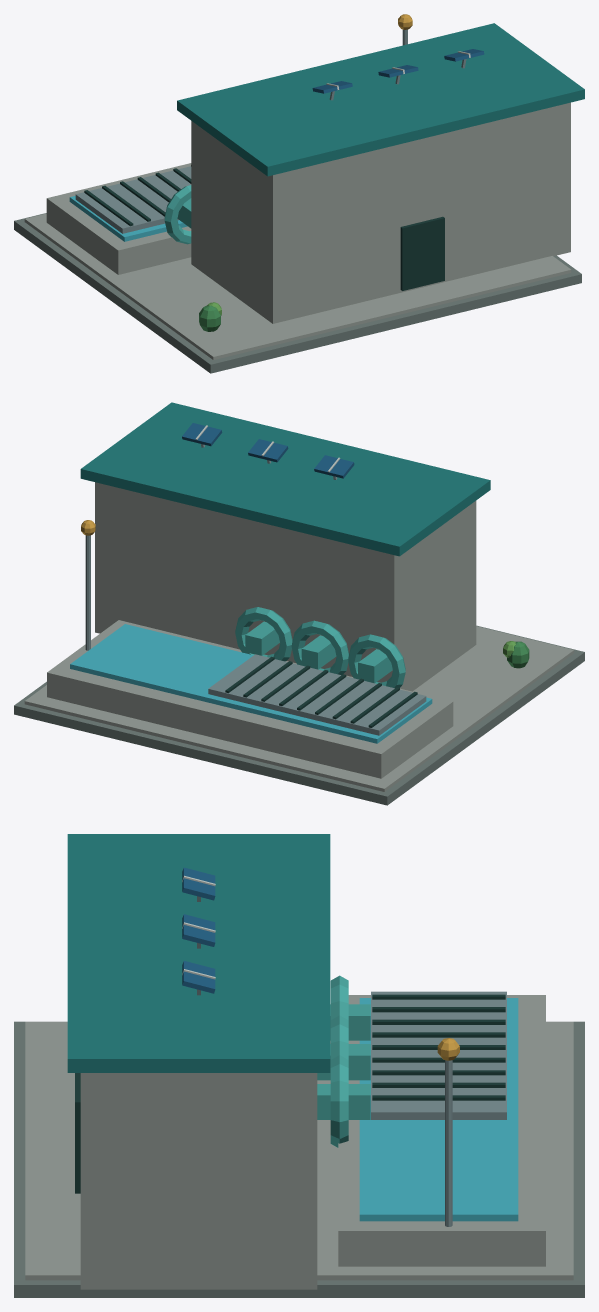
File: drain_lv4.glb
3 views of the same model, one above another, from view 1: azimuth 30°, elevation 25°; view 2: azimuth 150°, elevation 25°; view 3: azimuth 270°, elevation 25° (orthographic). The views are drawn at different scales.
Visible parts, largest first — view 1: rough, metallic, glossy; view 2: rough, metallic, glossy; view 3: rough, glossy, metallic.
Part boxes in pixels (bbox=[...]): rough: bbox=[14, 14, 584, 373]; metallic: bbox=[75, 29, 484, 233]; glossy: bbox=[69, 196, 187, 241]; rough: bbox=[14, 402, 584, 805]; metallic: bbox=[85, 423, 426, 735]; glossy: bbox=[70, 624, 432, 743]; rough: bbox=[14, 834, 584, 1297]; glossy: bbox=[359, 998, 518, 1221]; metallic: bbox=[182, 867, 506, 1226].
Size of the model in its own units: 10.15 by 4.93 by 8.8.
